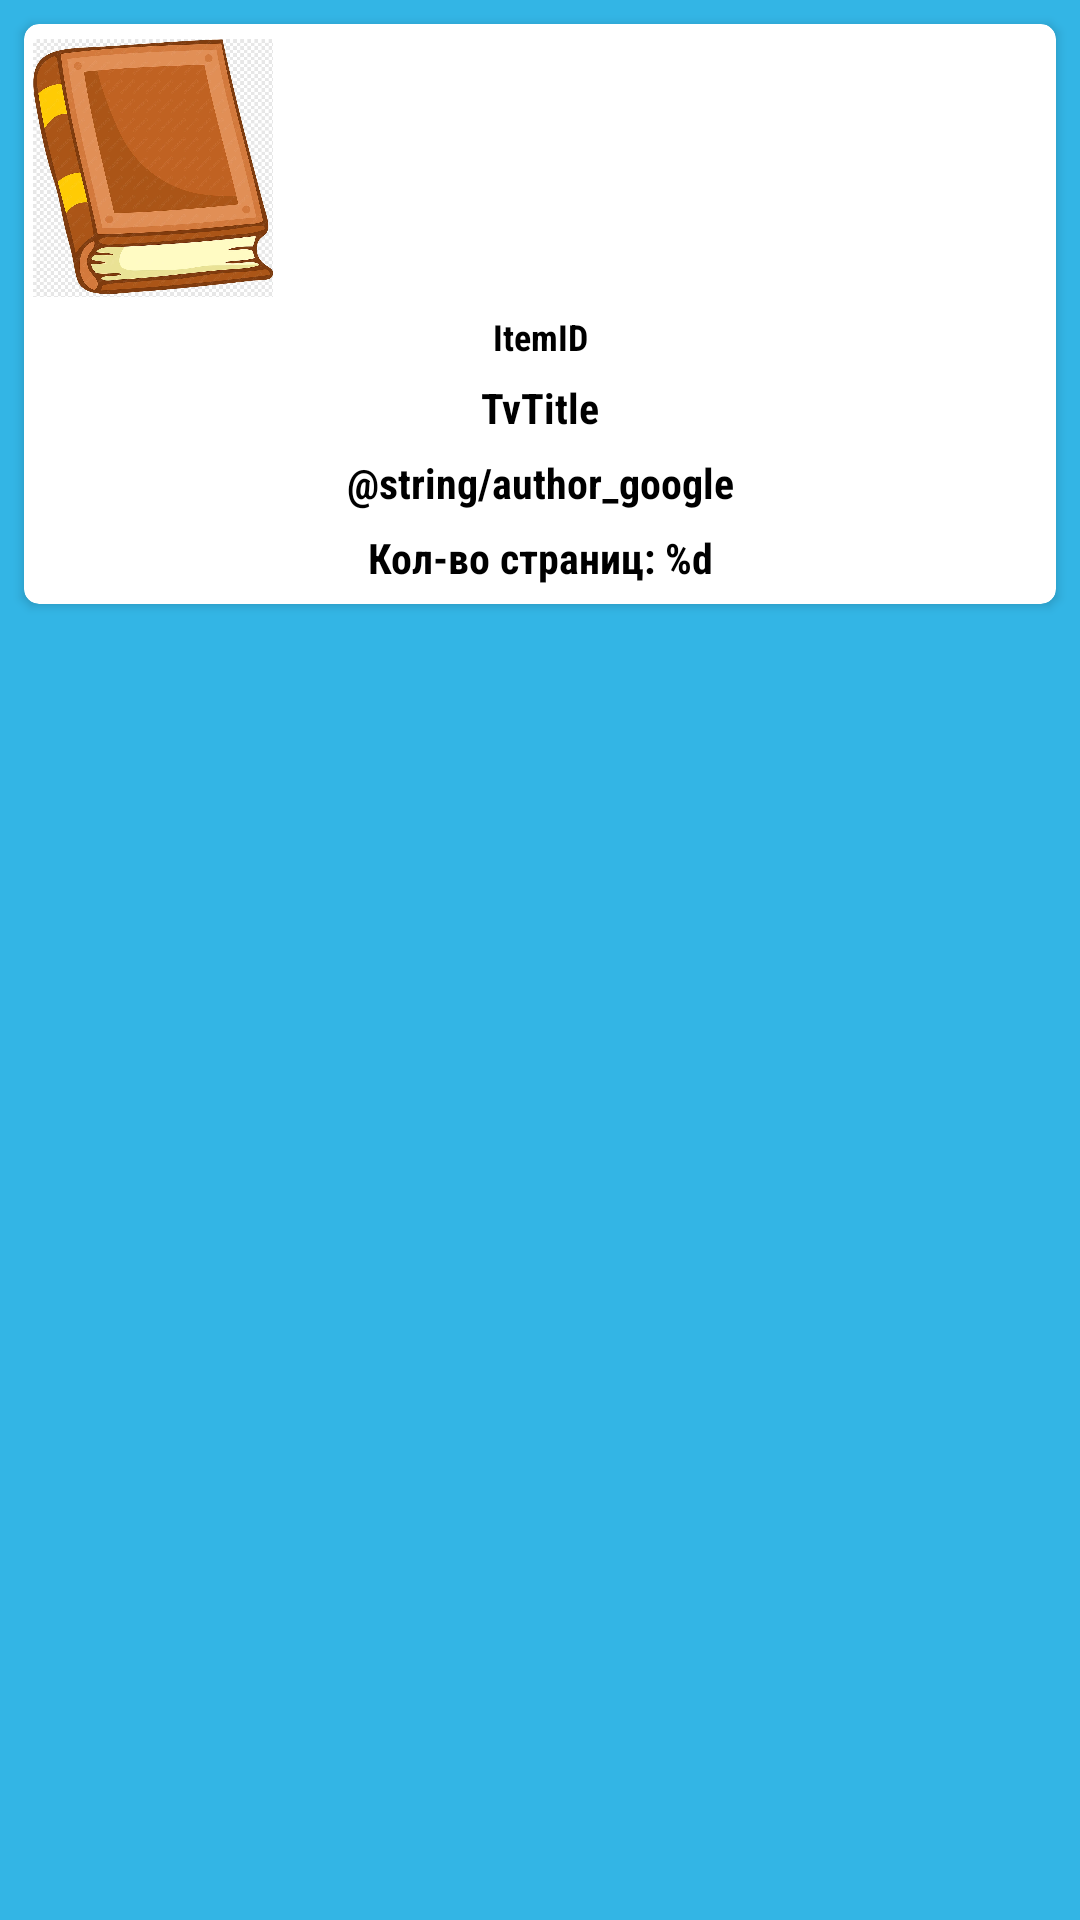

Screen size 1080 x 1920. Icon name, then its box in pixels as BBox(x1, y1, x2, y2):
book: BBox(33, 39, 273, 297)
